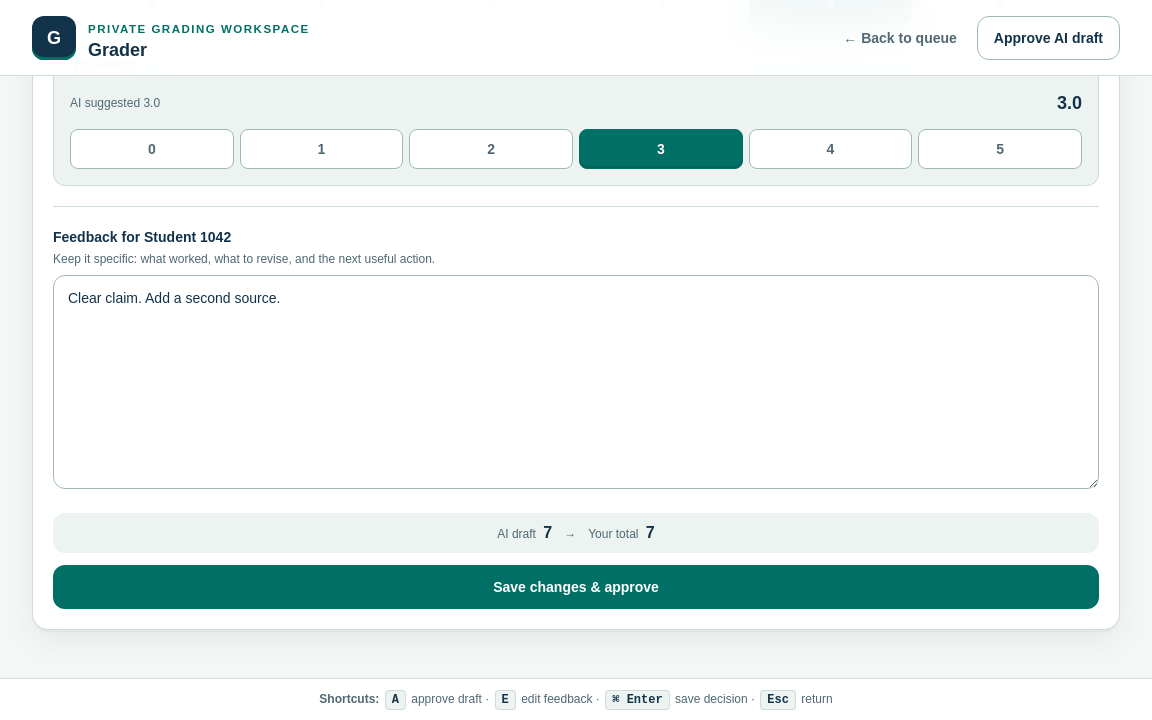
Test: SplitView › treats numeric string totals as unchanged after a feedback-only approval
This screenshot has width=1152, height=720.
(page scrolled)
Replace the text in the text box labelled "Feedback for Student 1042" with "Feedback-only edit that should not report a score change." at (576, 382), box [53, 275, 1099, 489]
(page scrolled)
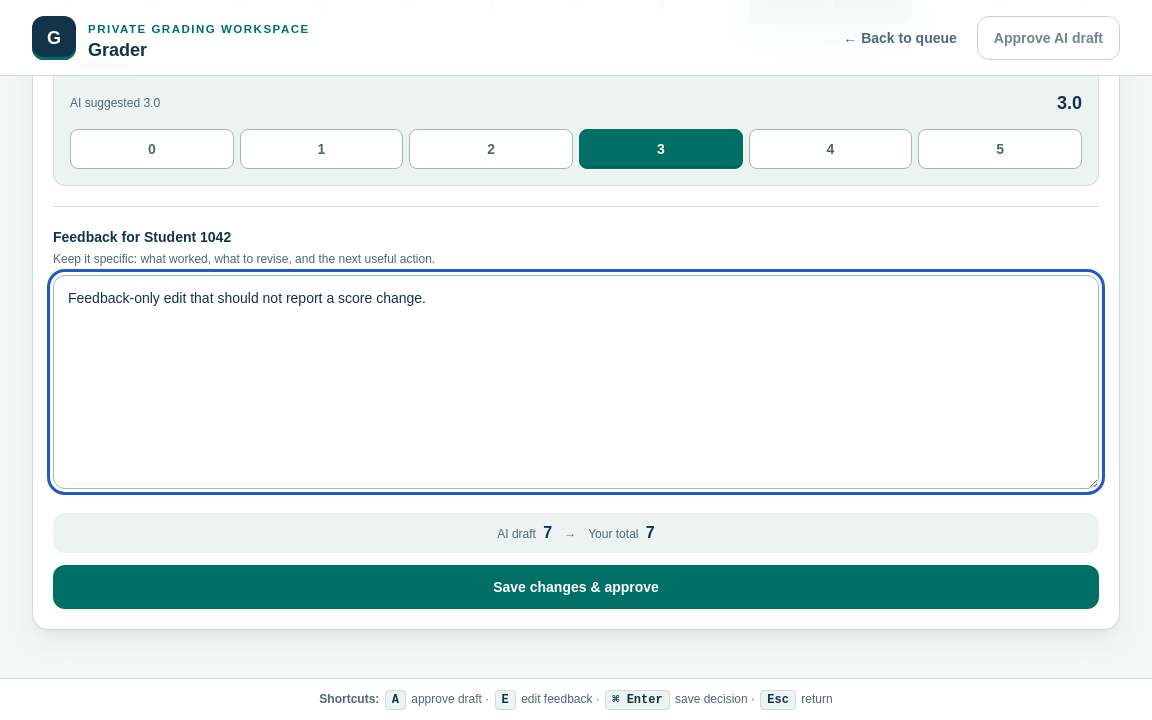
Click the button with aria-label "Save changes and approve" at (576, 587), box [53, 565, 1099, 609]
(page scrolled)
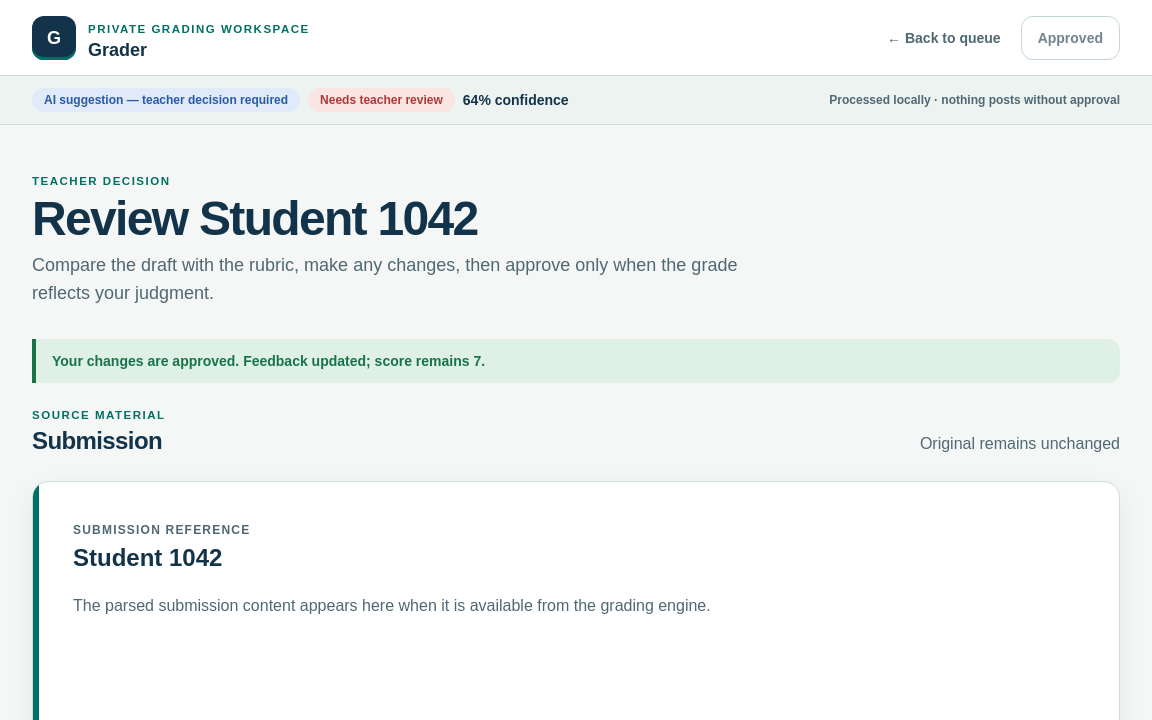
Now the text "Your changes are approved. Feedback updated; score remains 7." is shown, box [32, 339, 1120, 383]
